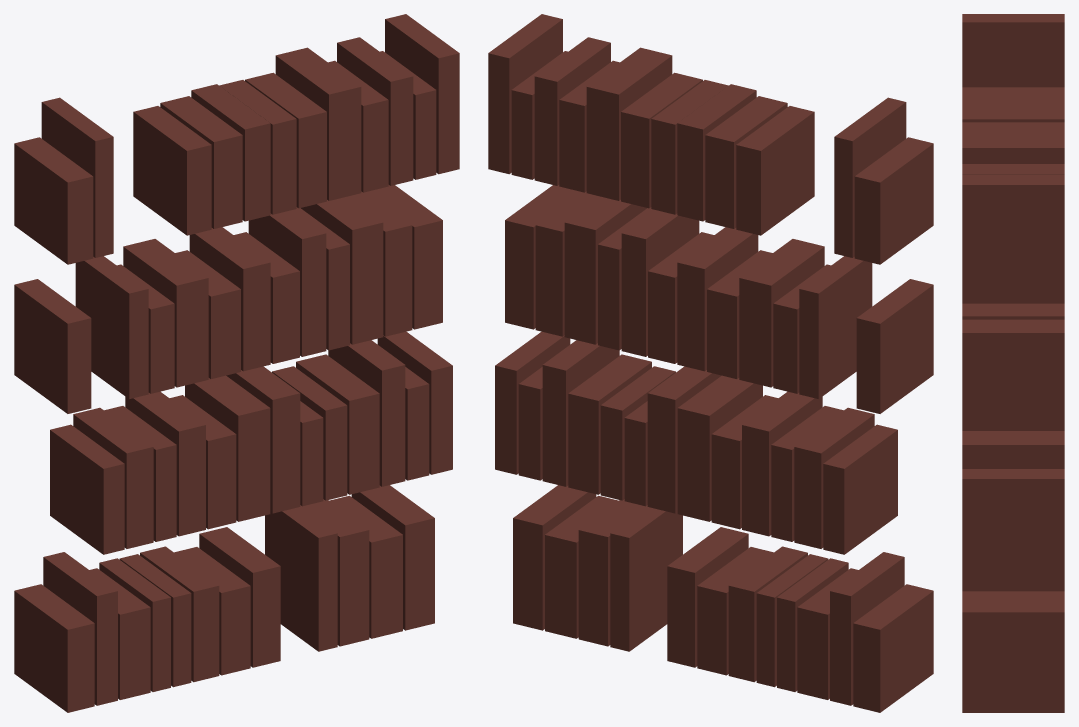
File: books.fbx
3 views of the same model, side by side, from view 1: azimuth 30°, elevation 25°; view 2: azimuth 150°, elevation 25°; view 3: azimuth 270°, elevation 25° (orthographic). The views are drawn at different scales.
Visible parts, largest first — view 1: books; view 2: books; view 3: books.
Part boxes in pixels (x1=…): books: x1=14, y1=14, x2=459, y2=712; books: x1=488, y1=14, x2=933, y2=712; books: x1=962, y1=14, x2=1064, y2=712.
Size of the model in its own units: 549 by 756 by 130.
